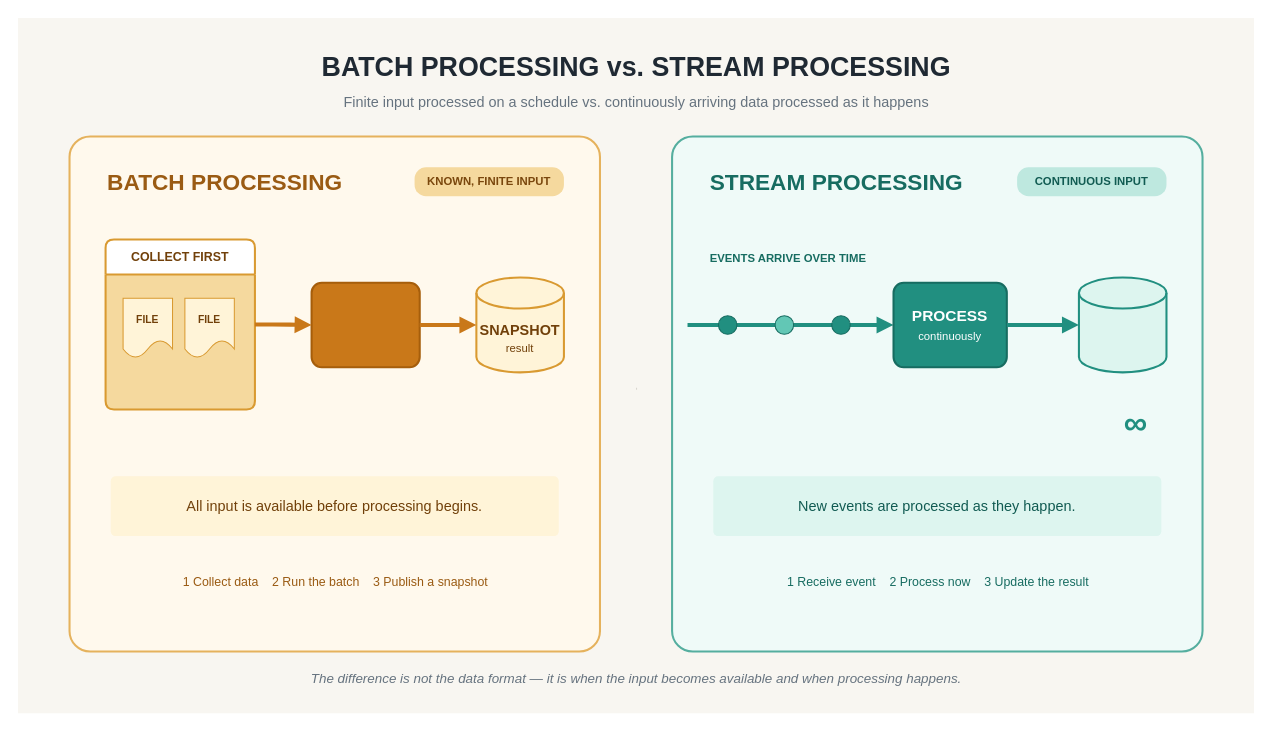
The diagram is 1271 pixels wide and 730 high, and some of its shapes have lost their labels. Here are the shapes that lost their labels. From the top down, the centre of each, then its label:
At point (365, 324): "PROCESS on schedule".
At point (1122, 324): "UPDATED result".
